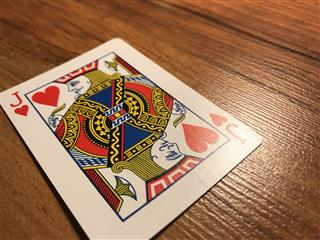JackOfHearts: (1, 36, 262, 240)
